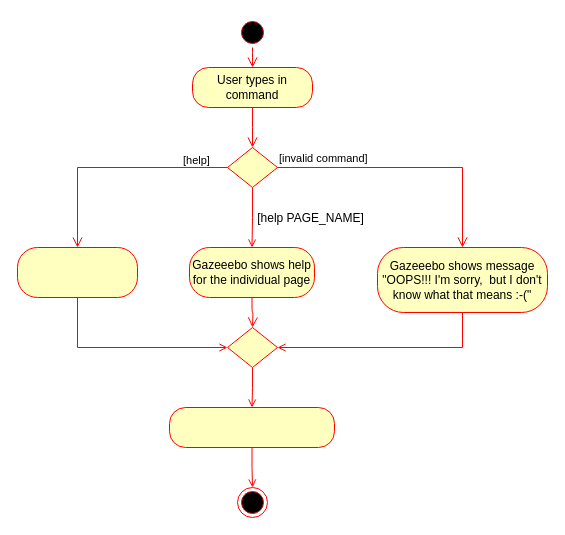
This 565x535 diagram has some shape labels left out. The shapes that lost their labels are listed below. From the top down, each one's centre as x and y in pixels, then its label:
the point at 77,272: Gazeeebo shows the help page
the point at 251,427: Gazeeebo waits for the user to type in the next command
